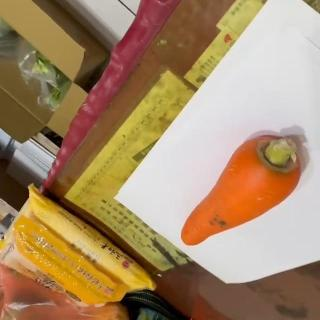carrot: (181, 134, 303, 248)
